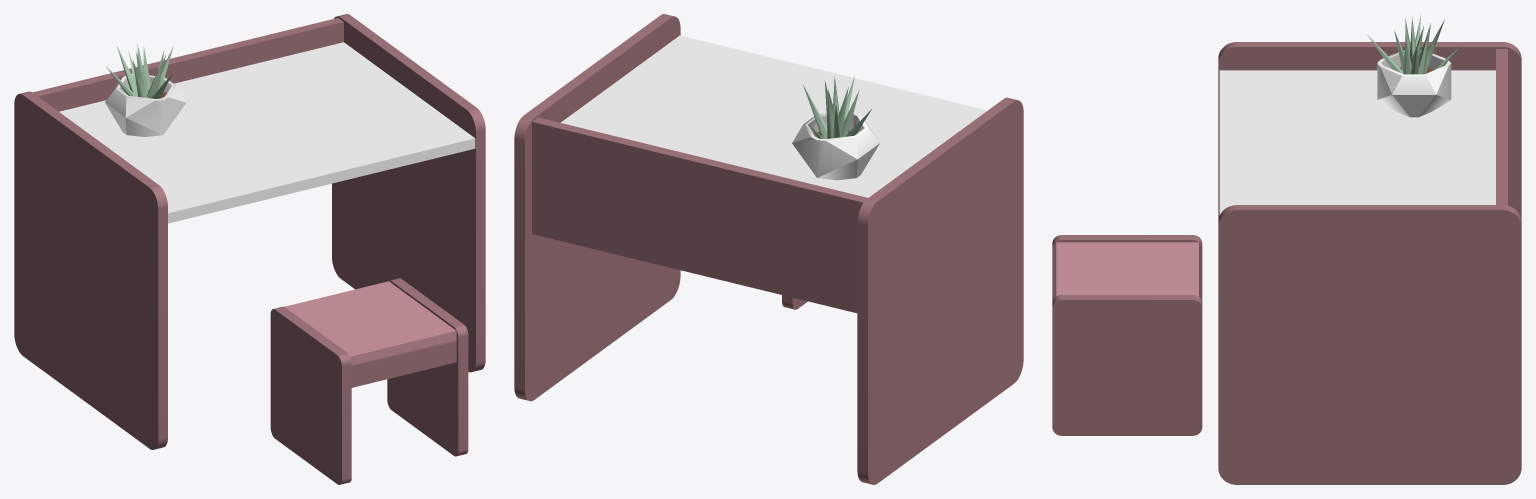
File: Furn1_worktable_color2_joined.fbx
3 renders of one model, left to right at view 1: azimuth 30°, elevation 25°; view 2: azimuth 150°, elevation 25°; view 3: azimuth 270°, elevation 25°, orthographic. The views are drawn at different scales.
Visible parts, largest first — view 1: Куб.007; view 2: Куб.007; view 3: Куб.007.
Boxes of the visible parts, bbox=[...] form: Куб.007: bbox=[14, 14, 485, 484]; Куб.007: bbox=[514, 14, 1023, 484]; Куб.007: bbox=[1052, 14, 1521, 484].
Bounding box in the file's own units: 193 × 180 × 228.
